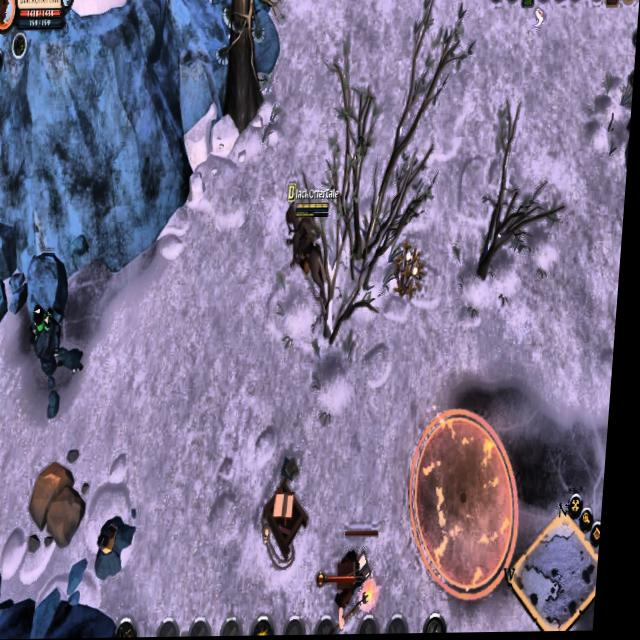copperore: (102, 513, 146, 579), (0, 558, 12, 630)
limestone: (32, 446, 96, 556)
